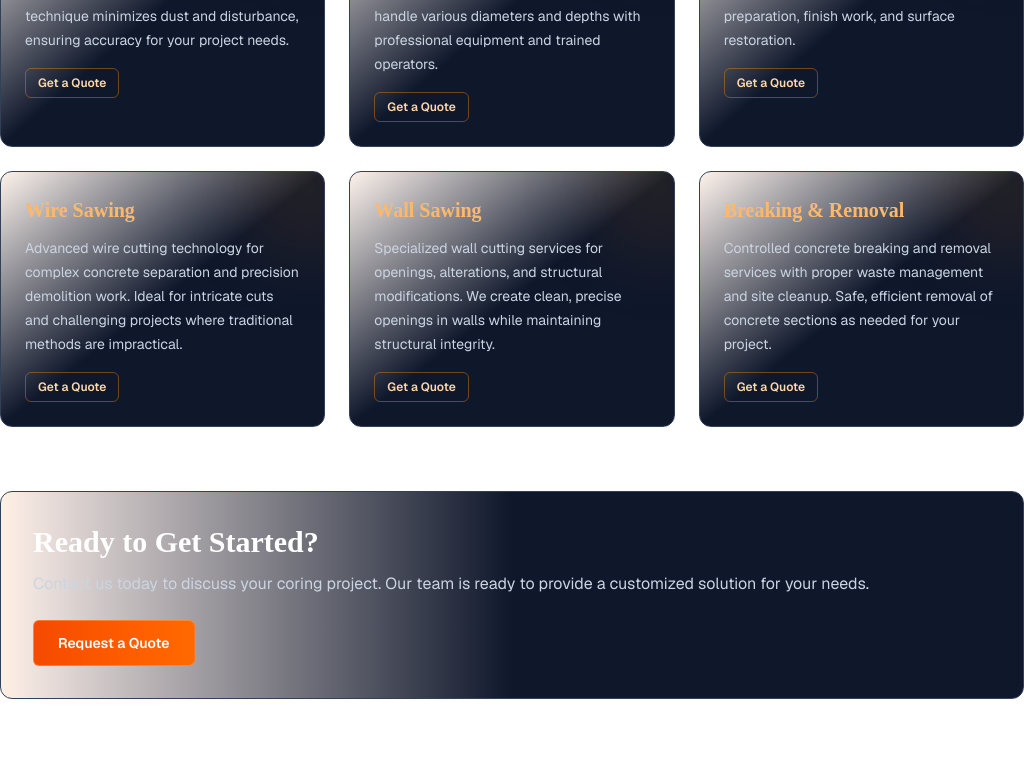
Test: CoringServices › opens the quote modal for a general inquiry from the CTA button
(page scrolled)
Step 1. Click the button "Request a Quote" → [114, 643], box [33,620,195,666]
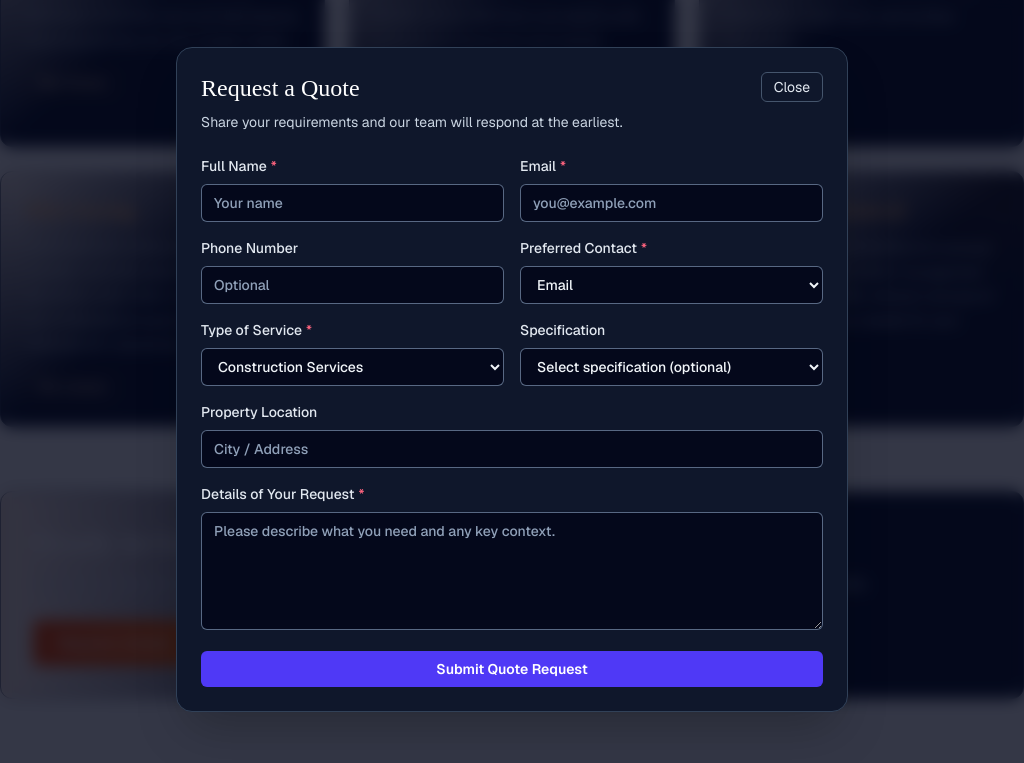
Result: the dialog is shown at [176,46,848,712]
